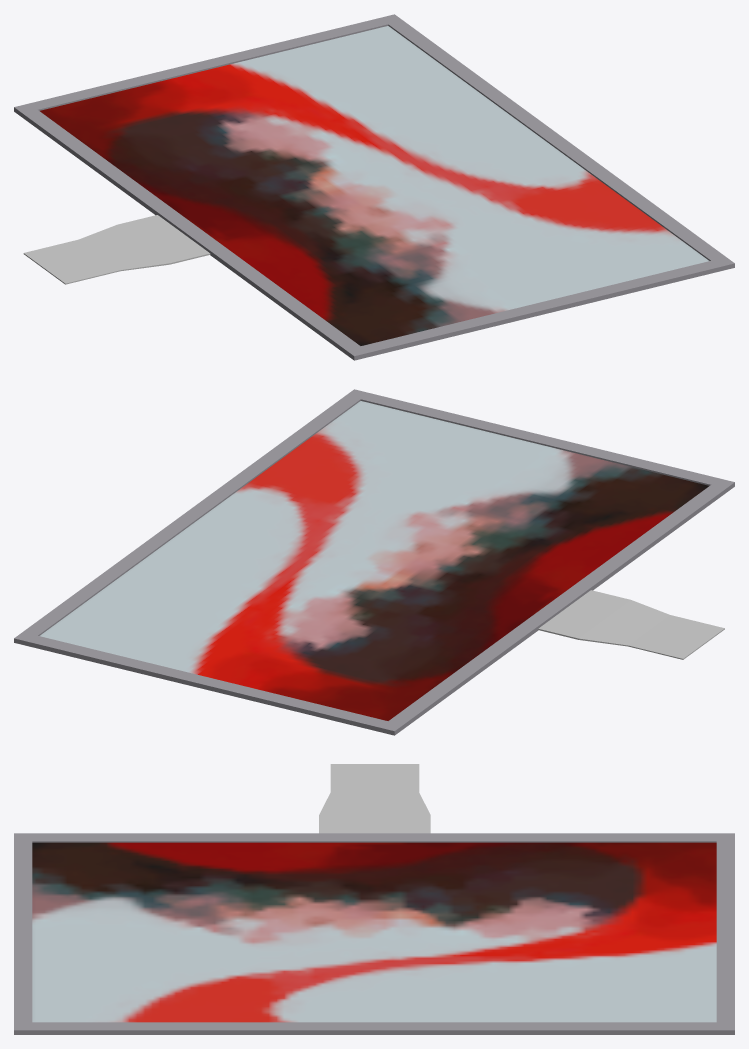
File: OLED display panel.fbx
The picture shows the model from 3 angles, top to bottom: view 1: azimuth 30°, elevation 25°; view 2: azimuth 150°, elevation 25°; view 3: azimuth 270°, elevation 25°; orthographic projection. The views are drawn at different scales.
Visible parts, largest first — view 1: oled_displaypanel; view 2: oled_displaypanel; view 3: oled_displaypanel.
Part boxes in pixels (box(x1,y1,x2,y2)): oled_displaypanel: box(14, 14, 734, 360); oled_displaypanel: box(14, 389, 734, 735); oled_displaypanel: box(14, 764, 734, 1034).
Size of the model in its own units: 1.31 by 0.0106 by 1.48.
